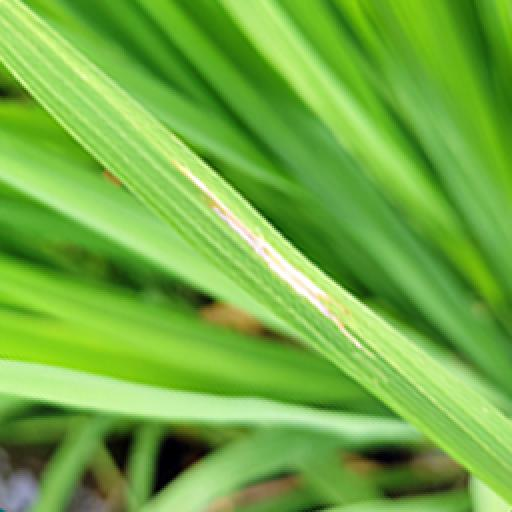Bacterial Leaf Blight: (160, 138, 372, 376)
